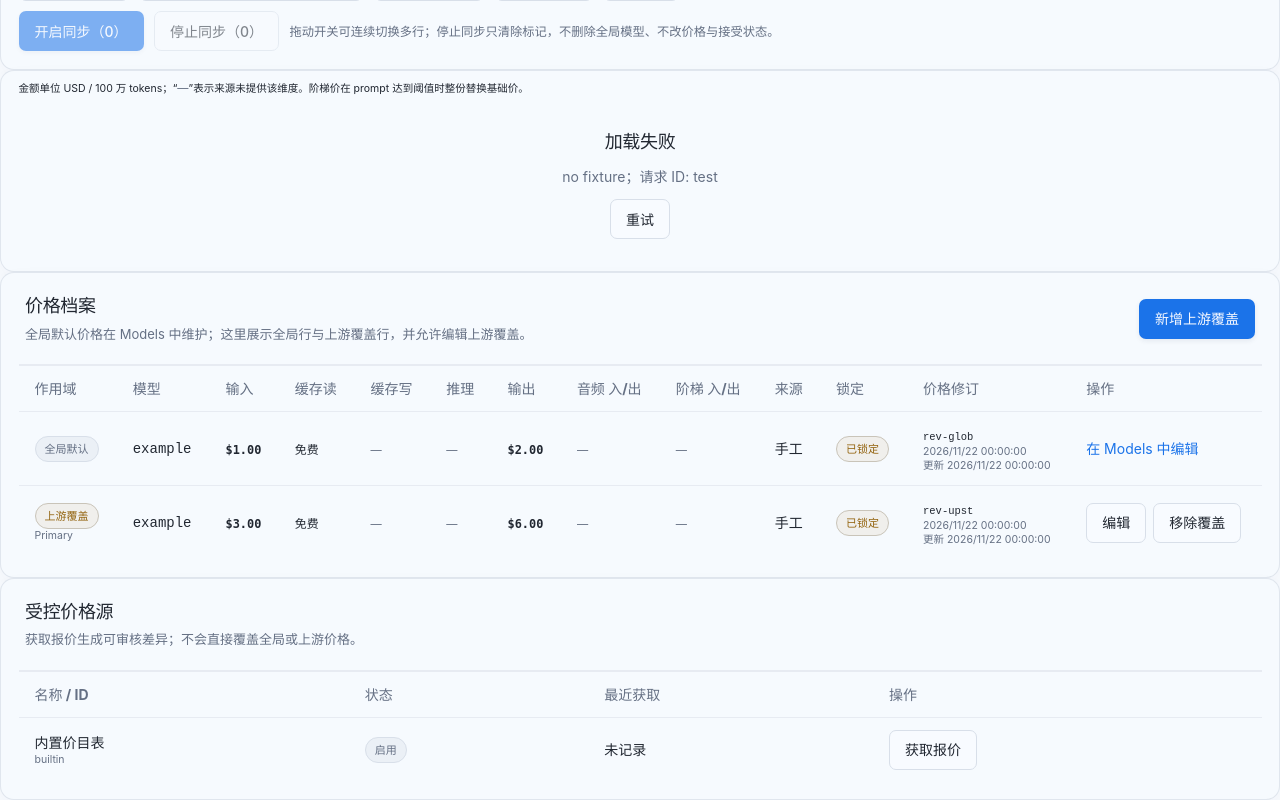
Scenario: prices surface › marks a conflict without a proposal as manual-only
(page scrolled)
Click the button "获取报价".
click(933, 750)  # box [889,730,977,770]
(page scrolled)
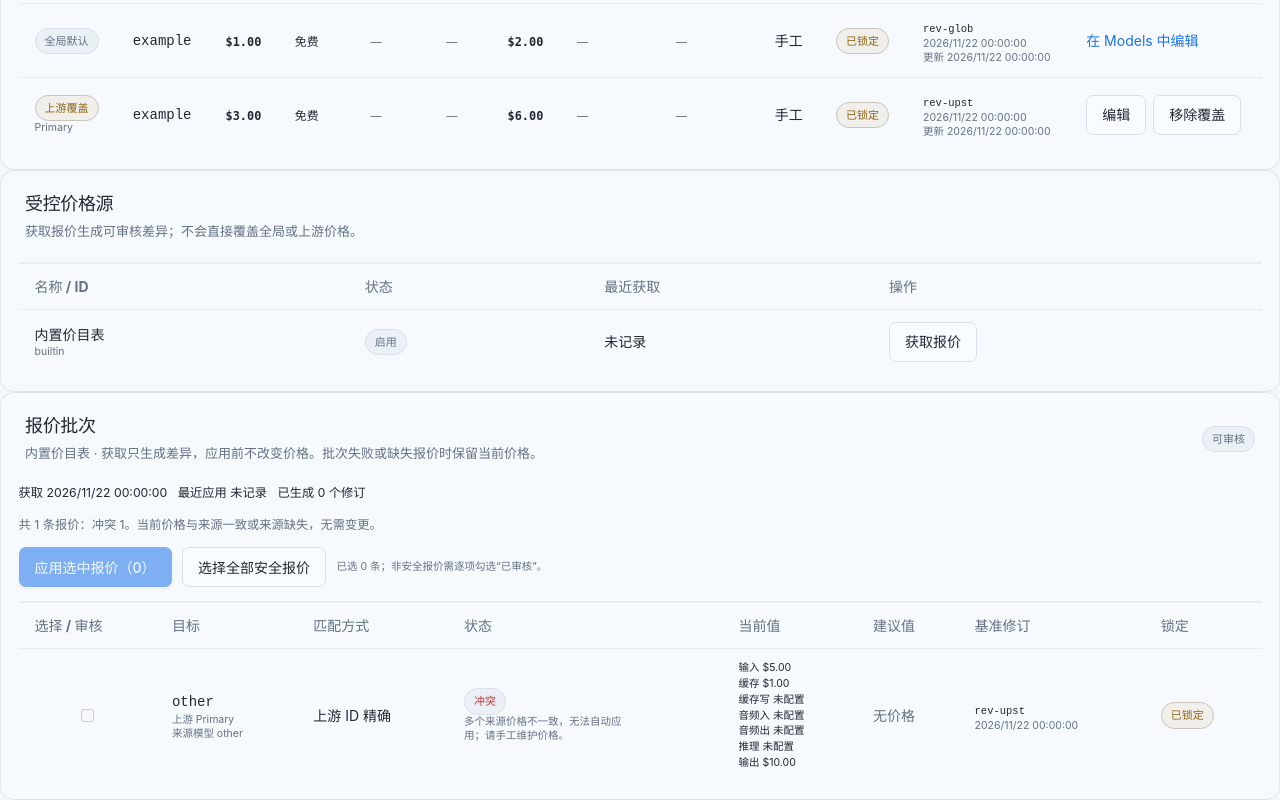
Now the text "多个来源价格不一致，无法自动应用；请手工维护价格。" is shown, box [464,715,632,743]
